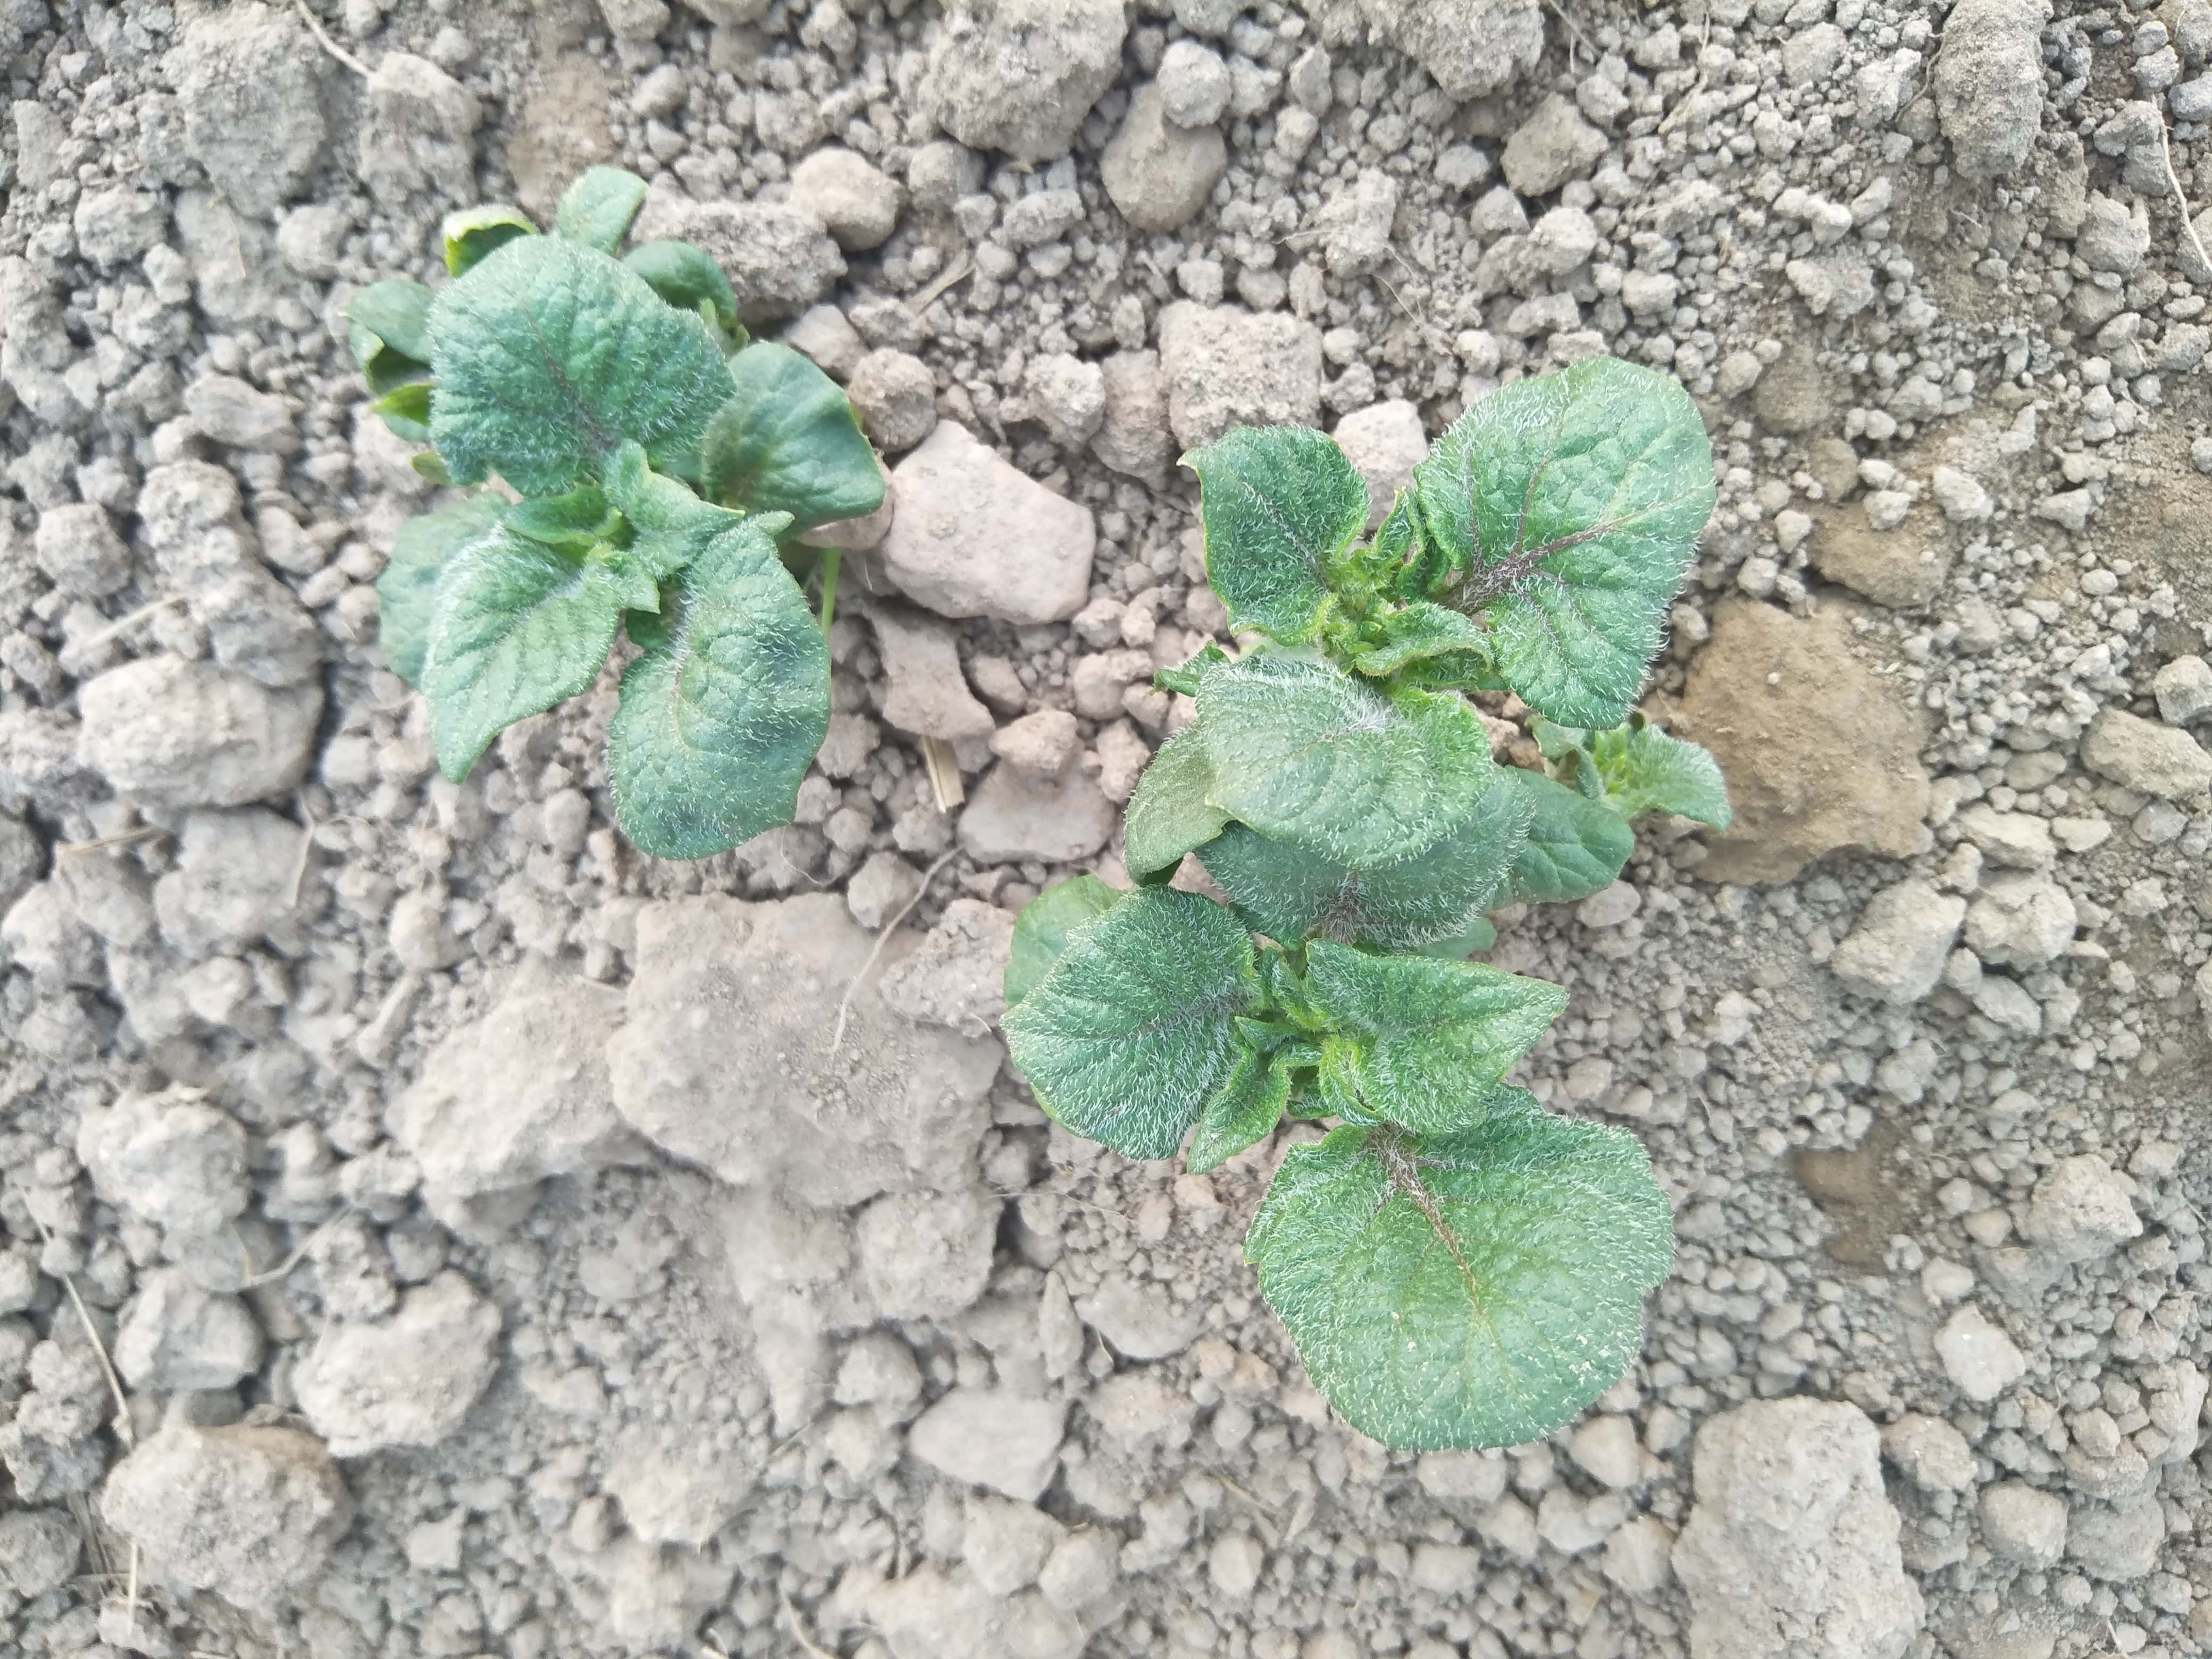daun: (1224, 1121, 1651, 1434), (1426, 354, 1703, 708), (428, 267, 723, 479), (1010, 906, 1258, 1154), (627, 523, 812, 840), (1209, 645, 1489, 852), (1209, 767, 1500, 946), (425, 542, 601, 781), (1312, 948, 1548, 1107), (1179, 430, 1353, 634), (730, 343, 878, 519), (1578, 718, 1724, 849), (1183, 1028, 1291, 1157), (1508, 774, 1611, 903), (608, 450, 709, 575), (1136, 727, 1198, 866)
